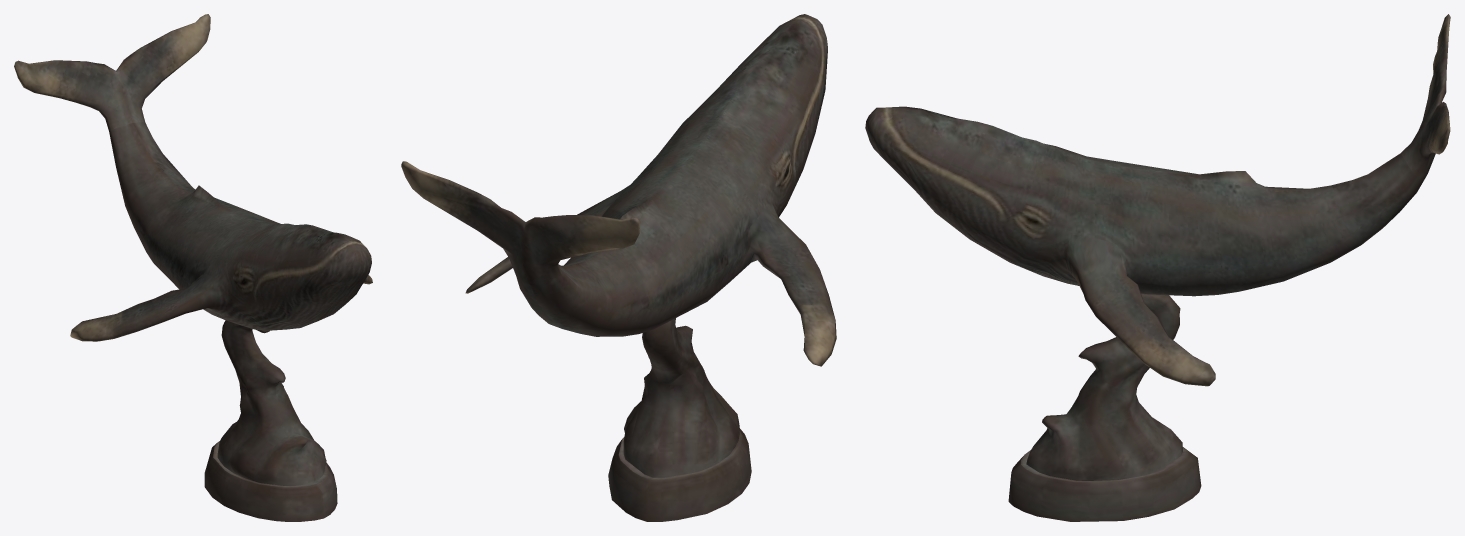
File: bronze_whale.glb
The picture shows the model from 3 angles, left to right: view 1: azimuth 30°, elevation 25°; view 2: azimuth 150°, elevation 25°; view 3: azimuth 270°, elevation 25°; orthographic projection. The views are drawn at different scales.
Parts seen in each view (by area): view 1: bronze_whale_statue; view 2: bronze_whale_statue; view 3: bronze_whale_statue.
Part boxes in pixels (box(x1,y1,x2,y2)): bronze_whale_statue: box(14, 14, 372, 521); bronze_whale_statue: box(401, 14, 836, 521); bronze_whale_statue: box(865, 14, 1450, 521).
Size of the model in its own units: 0.9306 by 1.07 by 1.36.
1 material, 1 textured.
